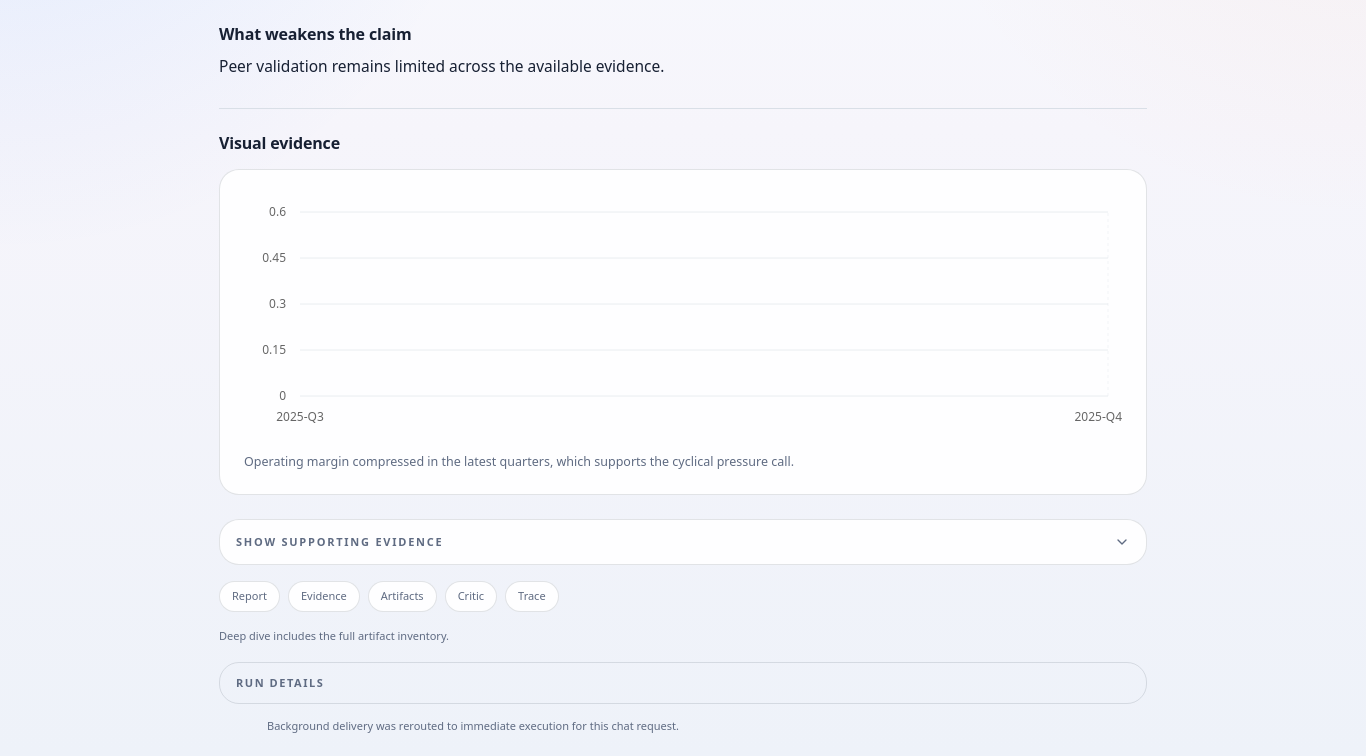
Test case: ChatMessageList › renders a structured answer card for completed assistant replies
The width and height of the screenshot is (1366, 756).
(page scrolled)
Check: the text "Background delivery was rerouted to immediate execution for this chat request." is shown, box [267,718,679,733]
Check: the heading "What weakens the claim" is shown, box [219,23,412,45]
Click the button "Show supporting evidence" at (340, 541), box [236,534,1130,550]
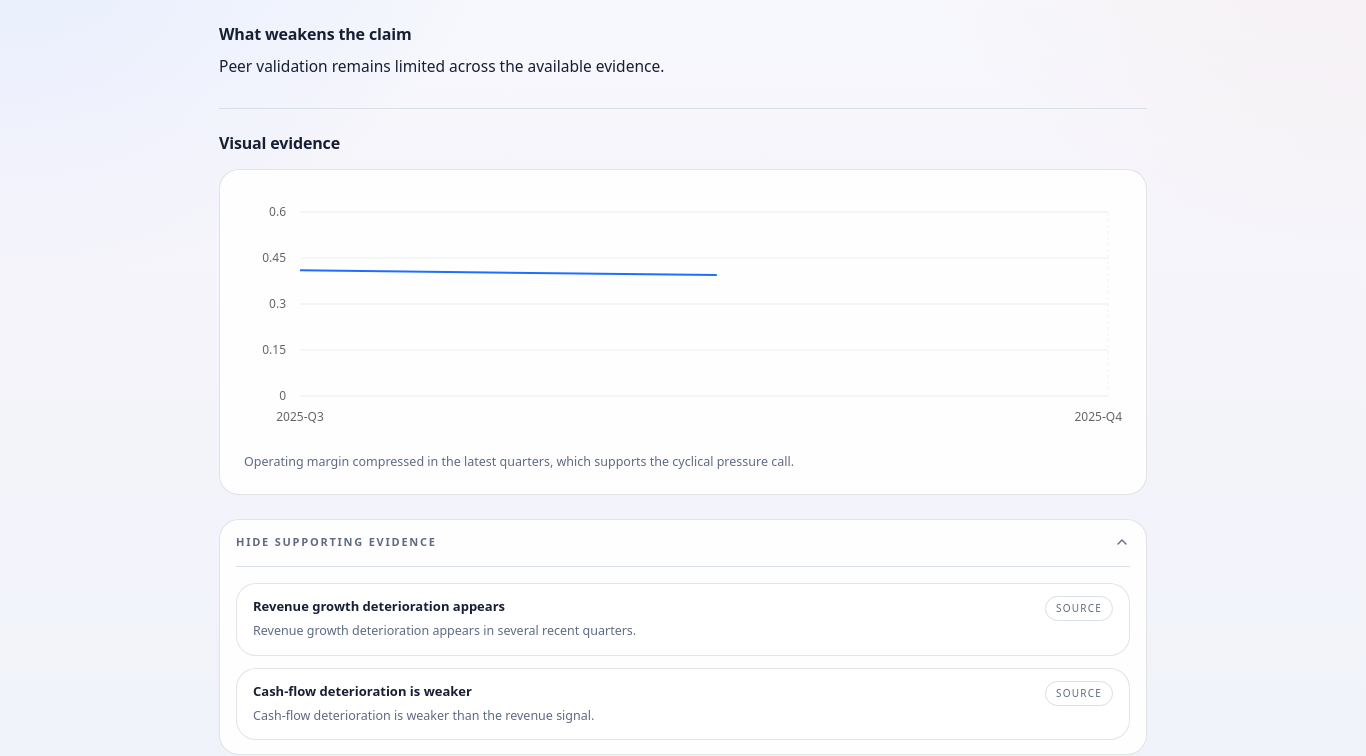
Check: the text "Hide supporting evidence" is shown, box [236,534,437,550]
Check: the text "Cash-flow deterioration is weaker than the revenue signal." is shown, box [253,705,594,727]
